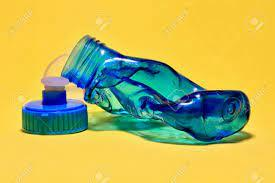plastic: (64, 38, 251, 146)
